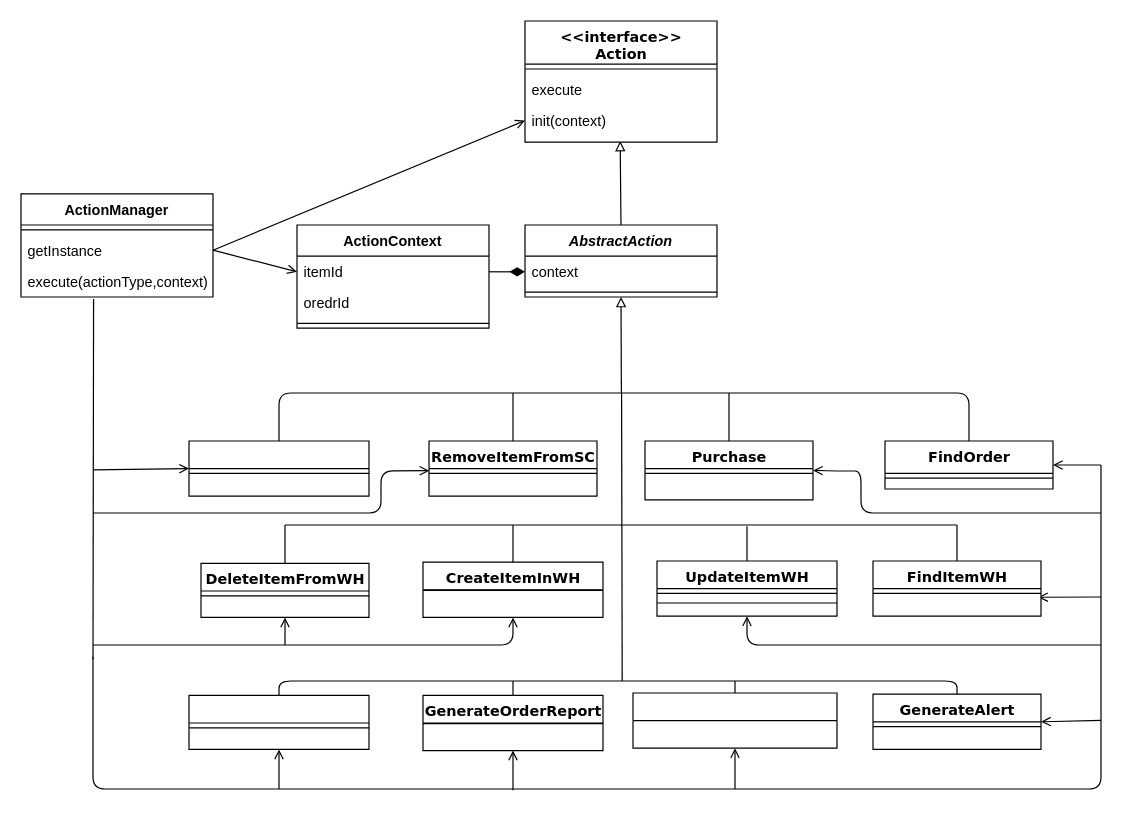
This 1132x821 diagram has some shape labels left out. The centre of each missing label's shape, as x and y in pixels:
"AddItemToSC" belongs at pixel 278 468.
"GenerateEconomicReport" belongs at pixel 734 720.
"GenerateStockReport" belongs at pixel 278 721.
